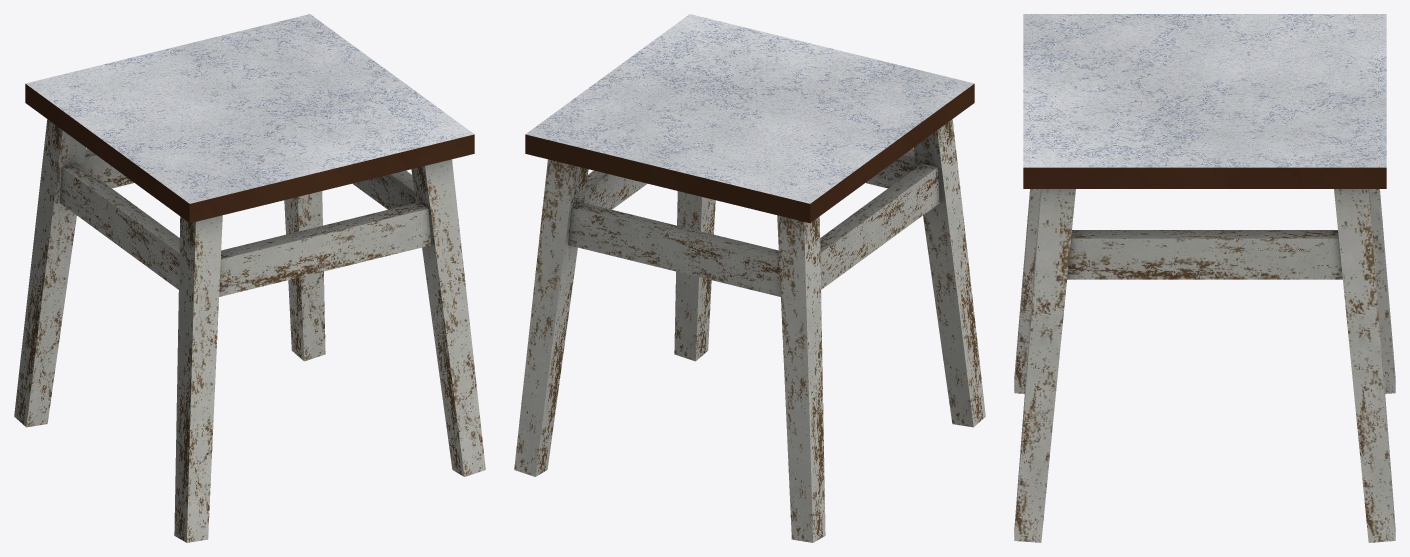
Rendered from stool_marble_web.glb.
3 views of the same model, side by side, from view 1: azimuth 30°, elevation 25°; view 2: azimuth 150°, elevation 25°; view 3: azimuth 270°, elevation 25° (orthographic). The views are drawn at different scales.
Parts seen in each view (by area): view 1: StoolMarble_Mesh; view 2: StoolMarble_Mesh; view 3: StoolMarble_Mesh.
Part boxes in pixels (left/top/right/bottom): StoolMarble_Mesh: left=14, top=14, right=485, bottom=542; StoolMarble_Mesh: left=514, top=14, right=985, bottom=542; StoolMarble_Mesh: left=1014, top=14, right=1395, bottom=542.
Size of the model in its own units: 0.4201 by 0.4535 by 0.4199.
Materials: 1 (1 with a texture image).
